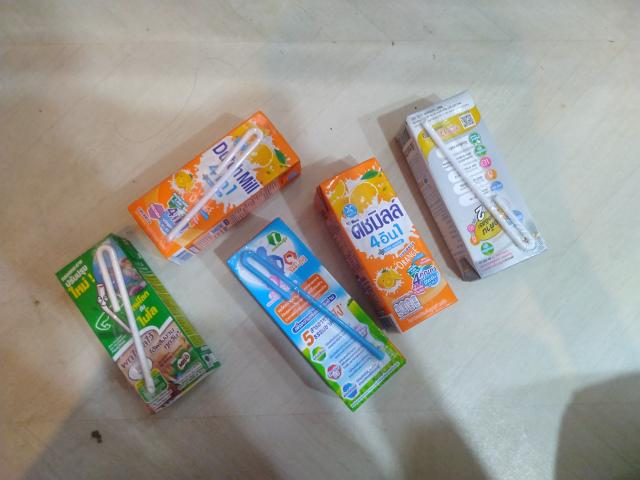drink_box: (219, 208, 422, 428), (104, 93, 329, 277), (46, 218, 235, 426), (384, 79, 565, 294), (304, 146, 476, 337)
